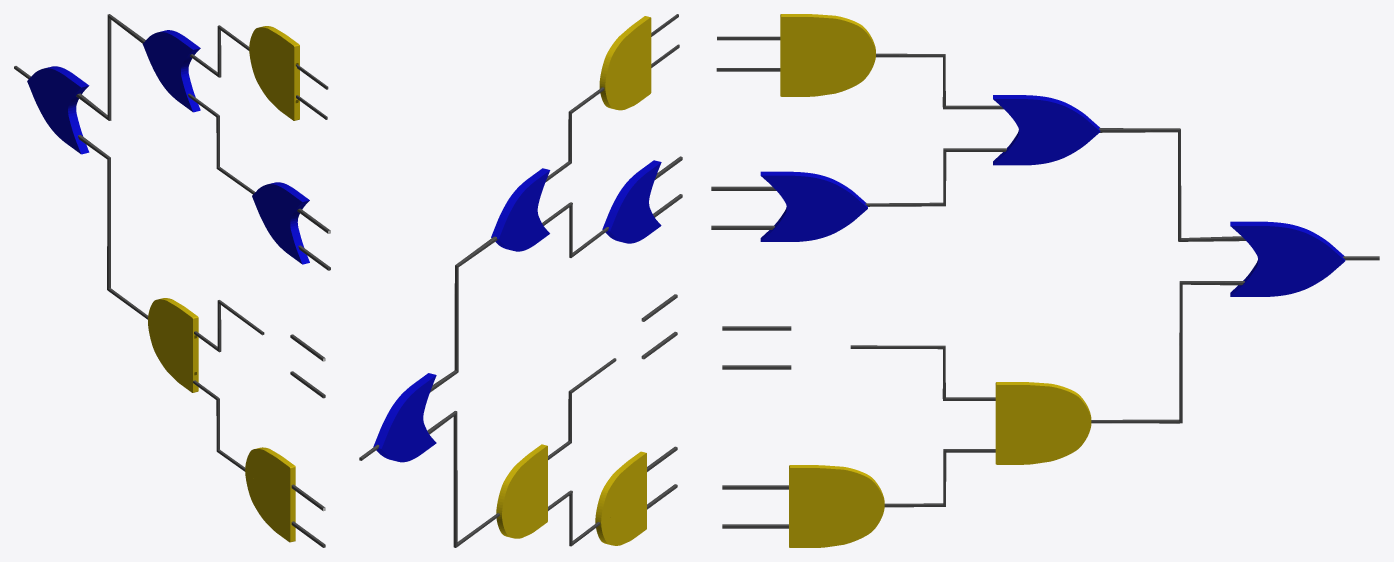
The model's file is fase3Exemplo2.fbx.
3 renders of one model, left to right at view 1: azimuth 30°, elevation 25°; view 2: azimuth 150°, elevation 25°; view 3: azimuth 270°, elevation 25°, orthographic. The views are drawn at different scales.
Parts seen in each view (by area): view 1: PortaESozinha.005, PortaESozinha.003, PortaESozinha, PortaOuSozinha.004, PortaOuSozinha.002, PortaOuSozinha.001, Plano.001, Plano.003, Fio.001, Plano.000, Fio, Plano.002 (+2 smaller); view 2: PortaESozinha, PortaESozinha.005, PortaESozinha.003, PortaOuSozinha.004, PortaOuSozinha.001, PortaOuSozinha.002, Plano.003, Plano.001, Fio.001, Plano.000, Fio, Plano.002 (+1 smaller); view 3: PortaESozinha.005, PortaESozinha, PortaESozinha.003, PortaOuSozinha.004, PortaOuSozinha.002, PortaOuSozinha.001, Plano.001, Plano.003.
Boxes of the visible parts, left/top/right/bottom form: PortaESozinha.005: left=148, top=298, right=198, bottom=392; PortaESozinha.003: left=245, top=447, right=295, bottom=542; PortaESozinha: left=249, top=26, right=299, bottom=120; PortaOuSozinha.004: left=27, top=66, right=89, bottom=154; PortaOuSozinha.002: left=142, top=30, right=200, bottom=112; PortaOuSozinha.001: left=252, top=182, right=309, bottom=264; Plano.001: left=14, top=14, right=145, bottom=120; Plano.003: left=78, top=135, right=147, bottom=319; Fio.001: left=194, top=300, right=264, bottom=352; Plano.000: left=188, top=93, right=255, bottom=194; Fio: left=190, top=25, right=249, bottom=77; Plano.002: left=193, top=380, right=245, bottom=471; PortaESozinha: left=599, top=16, right=651, bottom=110; PortaESozinha.005: left=496, top=444, right=547, bottom=538; PortaESozinha.003: left=595, top=451, right=646, bottom=545; PortaOuSozinha.004: left=373, top=373, right=436, bottom=462; PortaOuSozinha.001: left=602, top=160, right=661, bottom=243; PortaOuSozinha.002: left=491, top=168, right=550, bottom=251; Plano.003: left=427, top=411, right=499, bottom=547; Plano.001: left=359, top=236, right=498, bottom=460; Fio.001: left=548, top=358, right=616, bottom=459; Plano.000: left=542, top=202, right=608, bottom=257; Fio: left=545, top=87, right=604, bottom=182; Plano.002: left=548, top=490, right=610, bottom=546; PortaESozinha.005: left=995, top=382, right=1091, bottom=464; PortaESozinha: left=780, top=14, right=875, bottom=96; PortaESozinha.003: left=789, top=465, right=884, bottom=547; PortaOuSozinha.004: left=1230, top=221, right=1345, bottom=296; PortaOuSozinha.002: left=993, top=95, right=1100, bottom=165; PortaOuSozinha.001: left=760, top=171, right=867, bottom=241; Plano.001: left=1099, top=128, right=1379, bottom=260; Plano.003: left=1091, top=281, right=1244, bottom=423.
Size of the model in its own units: 2.95 by 172 by 196.
